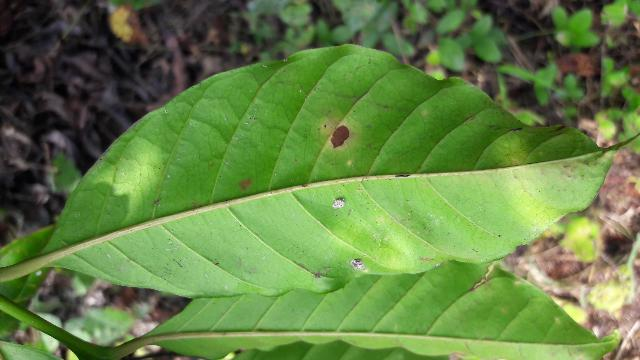red_spider_mite: (27, 46, 615, 298)
